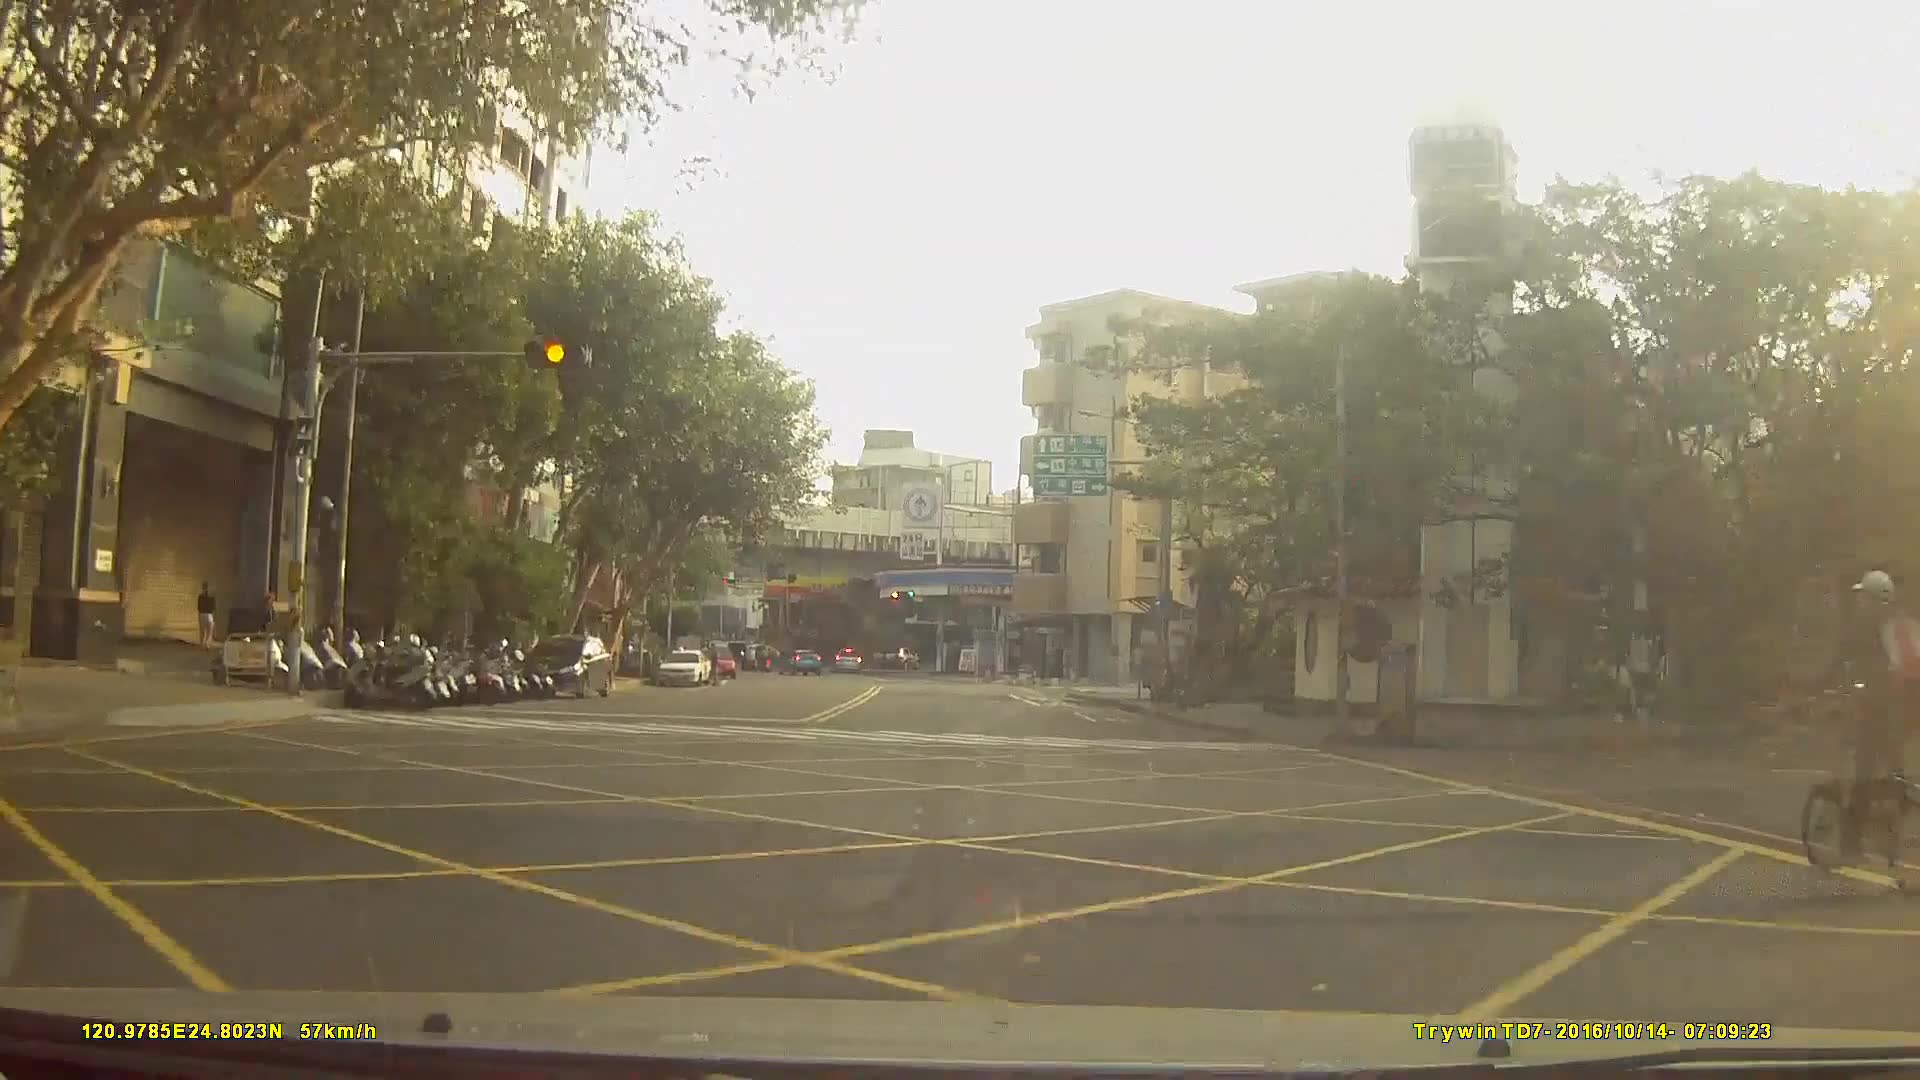pedestrian: (198, 577, 220, 650)
rider: (1800, 571, 1916, 880)
vehicle: (518, 630, 611, 697), (653, 644, 709, 684), (693, 641, 736, 678), (777, 643, 819, 672), (831, 642, 862, 670)
